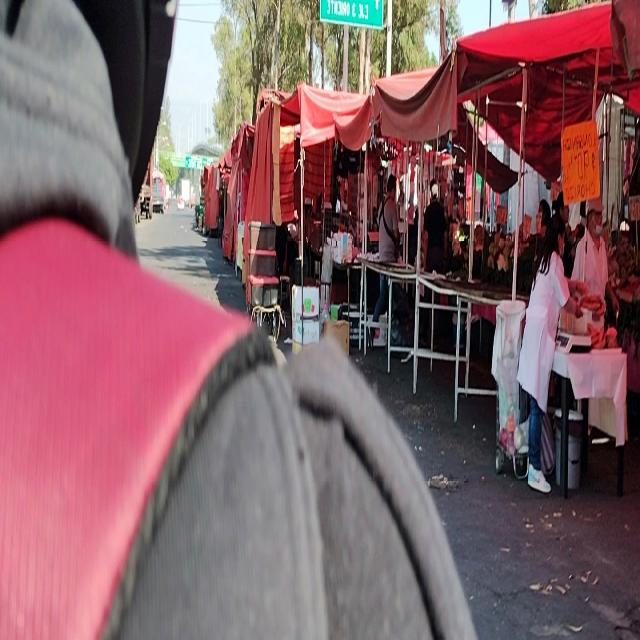adult: (524, 215, 588, 492), (571, 203, 619, 326), (368, 173, 399, 347), (423, 178, 447, 274)
